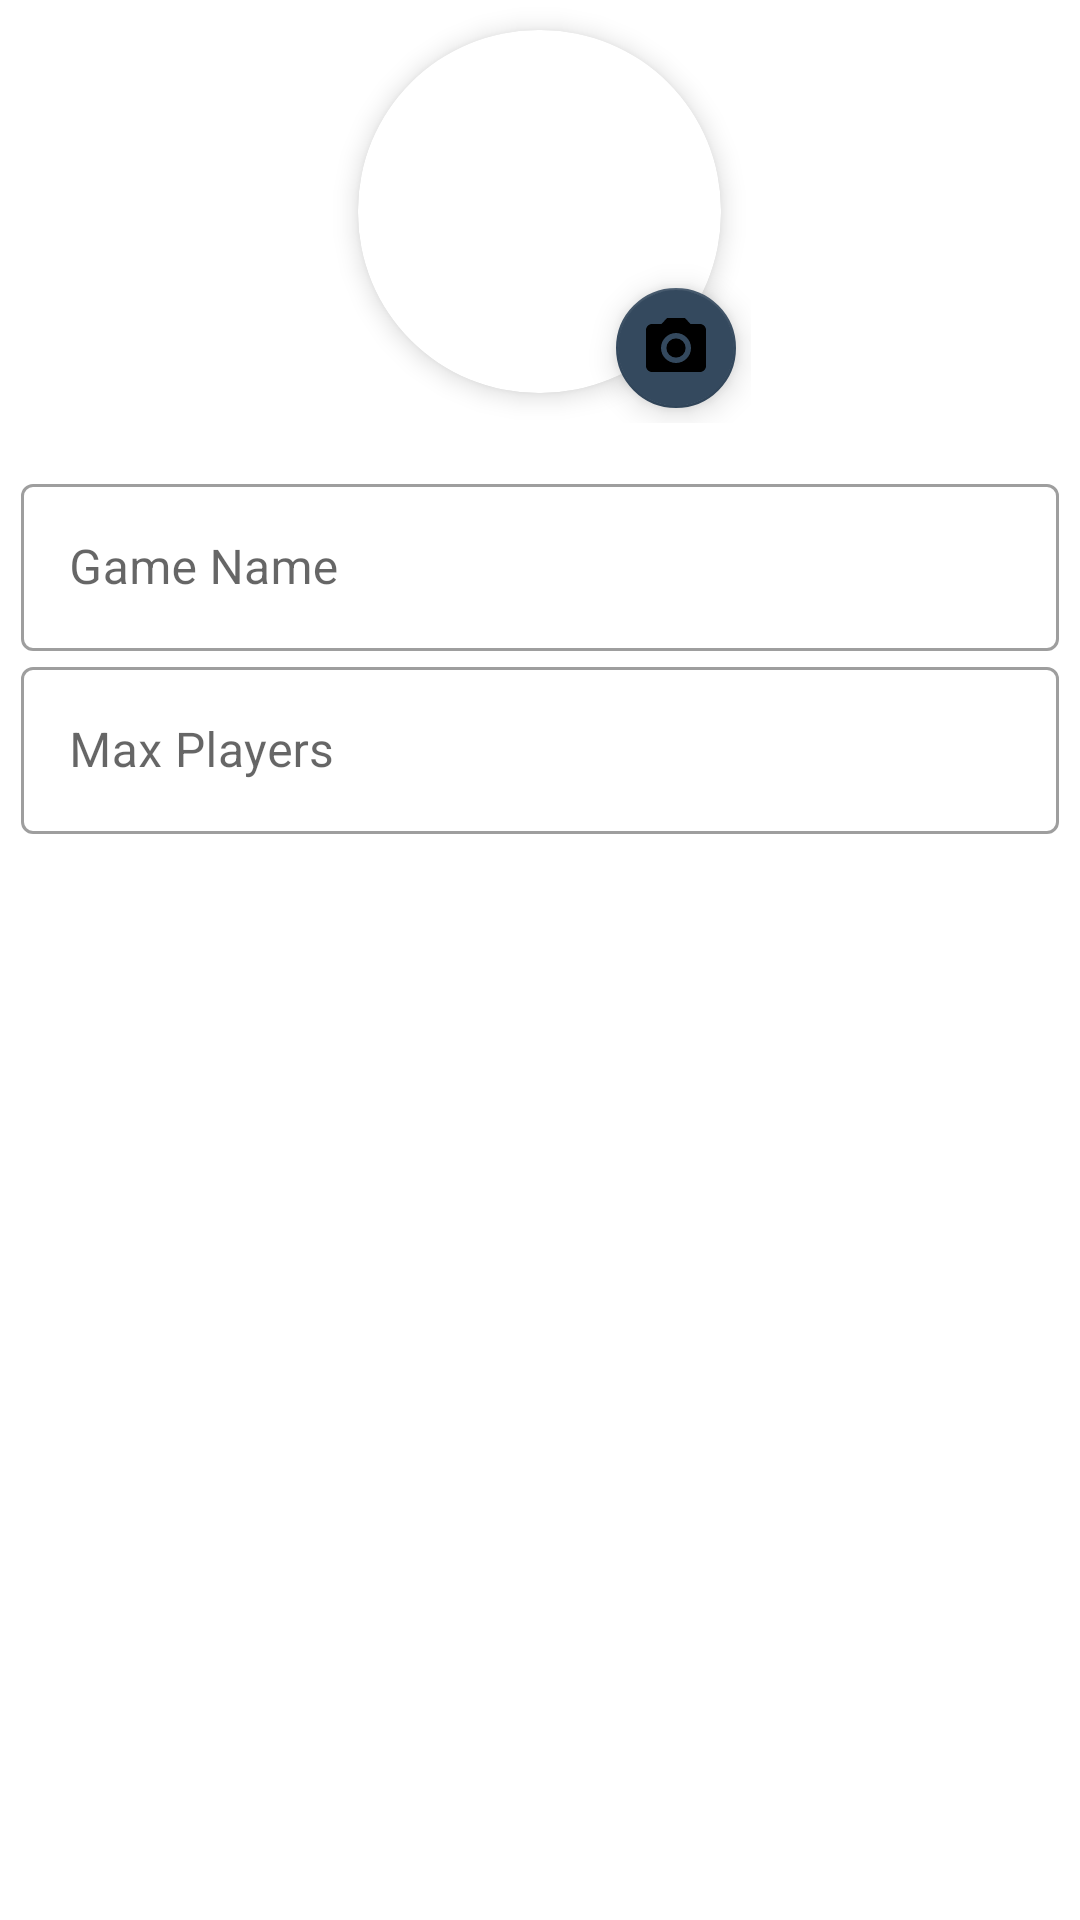

Where to tap for icons on this 1080px x 1920px app screen, as point (x, y):
camera: point (670, 344)
